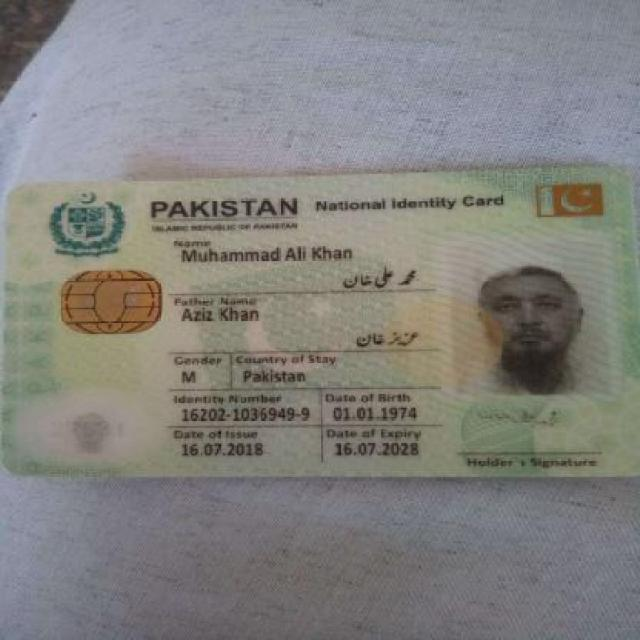Front: (8, 168, 632, 480)
